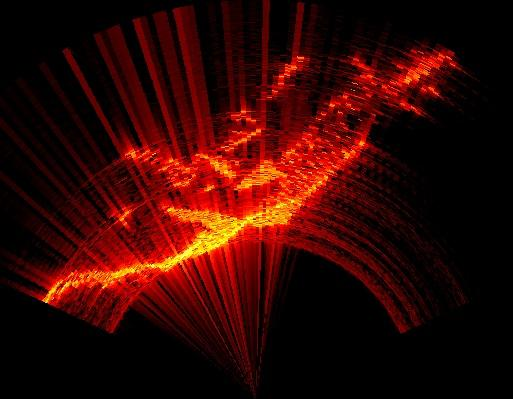shipwreck: (46, 51, 450, 303)
